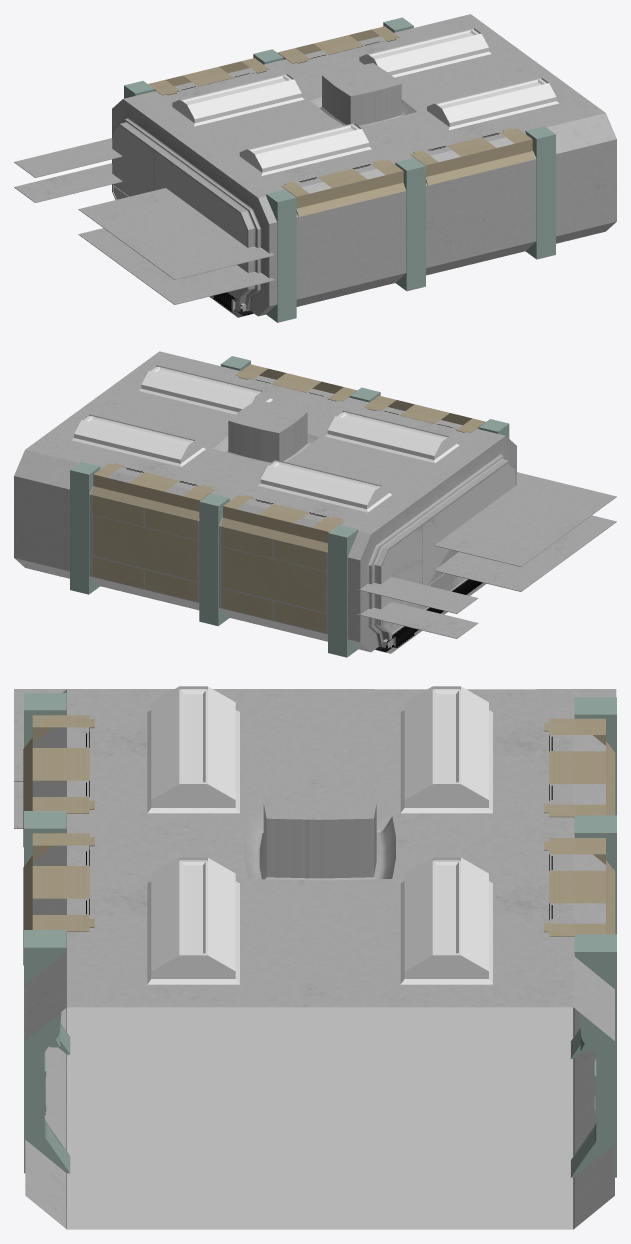
Rendered from testRoom.fbx.
3 views of the same model, one above another, from view 1: azimuth 30°, elevation 25°; view 2: azimuth 150°, elevation 25°; view 3: azimuth 270°, elevation 25° (orthographic). The views are drawn at different scales.
Parts seen in each view (by area): view 1: Plane, Plane.018, Plane.017, Plane.011, Plane.012, Plane.003, Plane.001, Plane.002, Plane.014, Plane.013; view 2: Plane, Plane.018, Plane.008, Plane.007, Plane.017, Plane.014, Plane.013, Plane.006, Plane.005, Plane.004, Plane.012, Plane.011; view 3: Plane, Plane.016, Plane.018, Plane.004, Plane.001, Plane.012, Plane.014, Plane.011, Plane.013, Plane.005, Plane.002, Plane.006 (+1 smaller).
Part boxes in pixels (box(x1,y1,x2,y2)): Plane: box(14, 14, 616, 317); Plane.018: box(169, 28, 558, 175); Plane.017: box(113, 125, 246, 270); Plane.011: box(281, 159, 405, 216); Plane.012: box(410, 128, 534, 185); Plane.003: box(266, 189, 296, 322); Plane.001: box(525, 126, 555, 259); Plane.002: box(395, 158, 425, 291); Plane.014: box(277, 26, 399, 63); Plane.013: box(148, 58, 269, 95); Plane: box(14, 351, 616, 653); Plane.018: box(71, 365, 459, 512); Plane.008: box(92, 495, 197, 601); Plane.007: box(221, 527, 326, 632); Plane.017: box(382, 463, 515, 633); Plane.014: box(91, 463, 214, 520); Plane.013: box(220, 495, 344, 551); Plane.006: box(328, 525, 358, 657); Plane.005: box(199, 493, 229, 626); Plane.004: box(70, 462, 100, 594); Plane.012: box(235, 364, 356, 401); Plane.011: box(364, 395, 485, 432); Plane: box(14, 689, 616, 1229); Plane.016: box(67, 1007, 573, 1229); Plane.018: box(147, 686, 492, 984); Plane.004: box(570, 934, 616, 1177); Plane.001: box(24, 930, 70, 1173); Plane.012: box(23, 833, 94, 965); Plane.014: box(544, 838, 615, 936); Plane.011: box(23, 715, 94, 847); Plane.013: box(544, 718, 615, 817); Plane.005: box(570, 815, 616, 1058); Plane.002: box(24, 811, 70, 1054); Plane.006: box(574, 697, 616, 815).
Size of the model in its own units: 1142 by 369 by 714.
